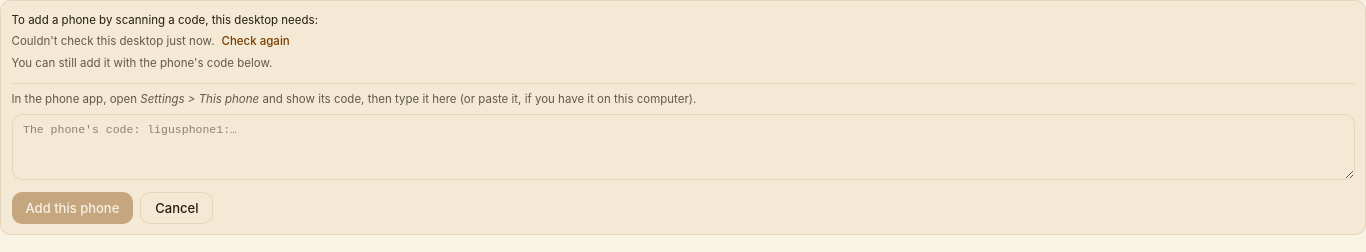
Add a phone (the phone scans the desktop's code) › offers to check again when the check itself failed
Expected: the element with test id "add-phone-unavailable" shows "Couldn't check this desktop just now.", [12,34,214,48]
Click the button "Check again" at (256, 42), box [222,33,290,50]
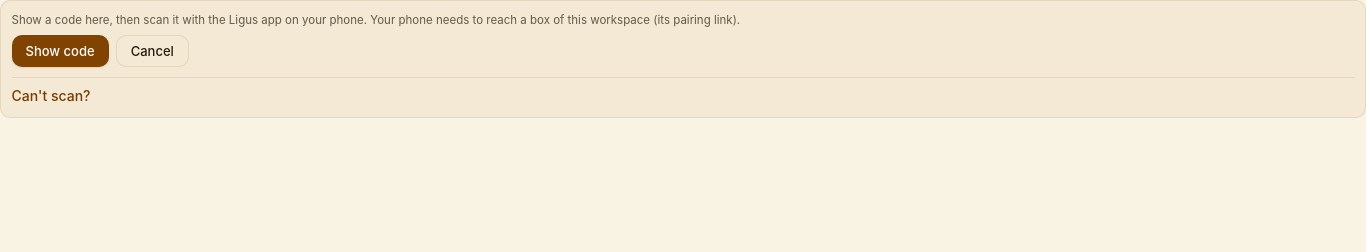
Now the button "Show code" is shown, box [12,35,109,67]
